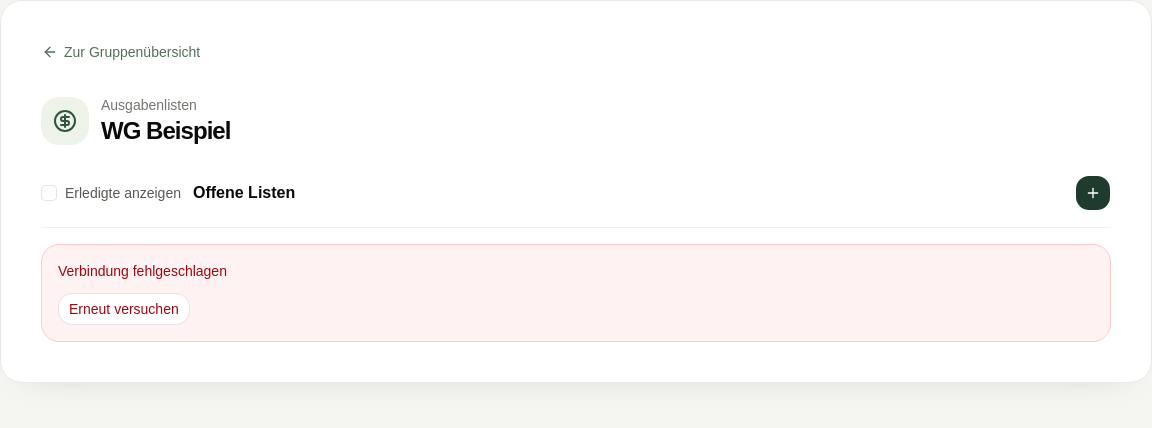
Test: ExpenseLists › shows a retry action when loading fails
The width and height of the screenshot is (1152, 428).
Expected: the text "Verbindung fehlgeschlagen" is shown, [58,263,227,279]
Click the button "Erneut versuchen" at (124, 309), box [58,293,190,325]
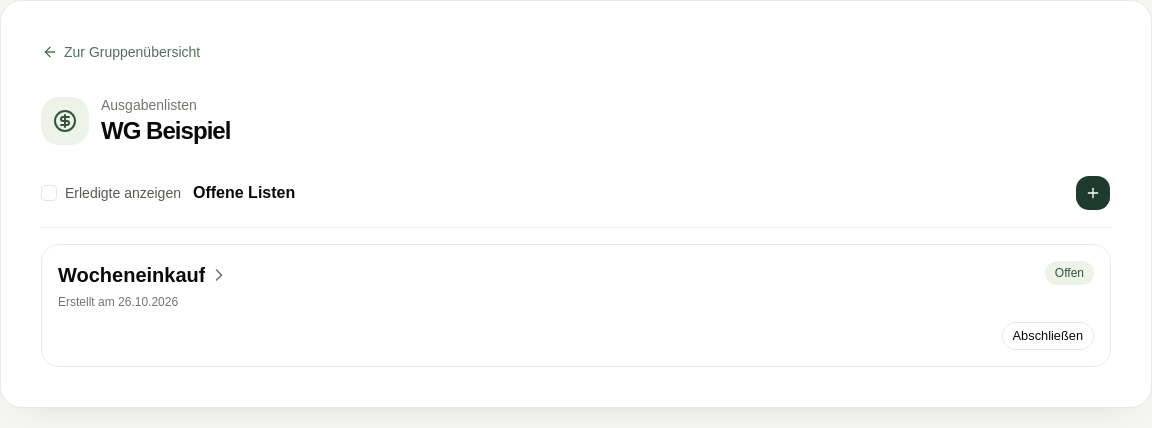
Expected: the heading "Wocheneinkauf" is shown, [58,261,229,290]
